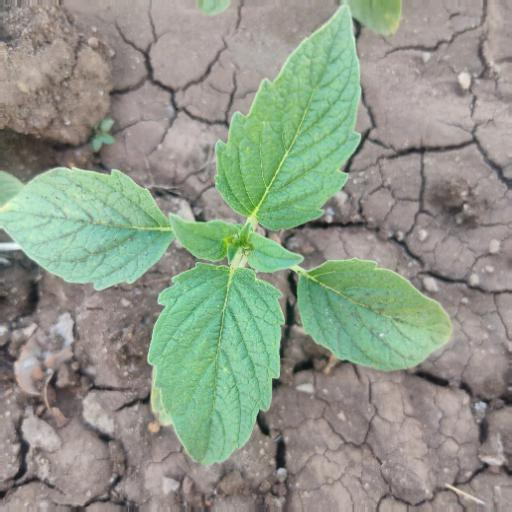crop: (4, 7, 456, 486)
